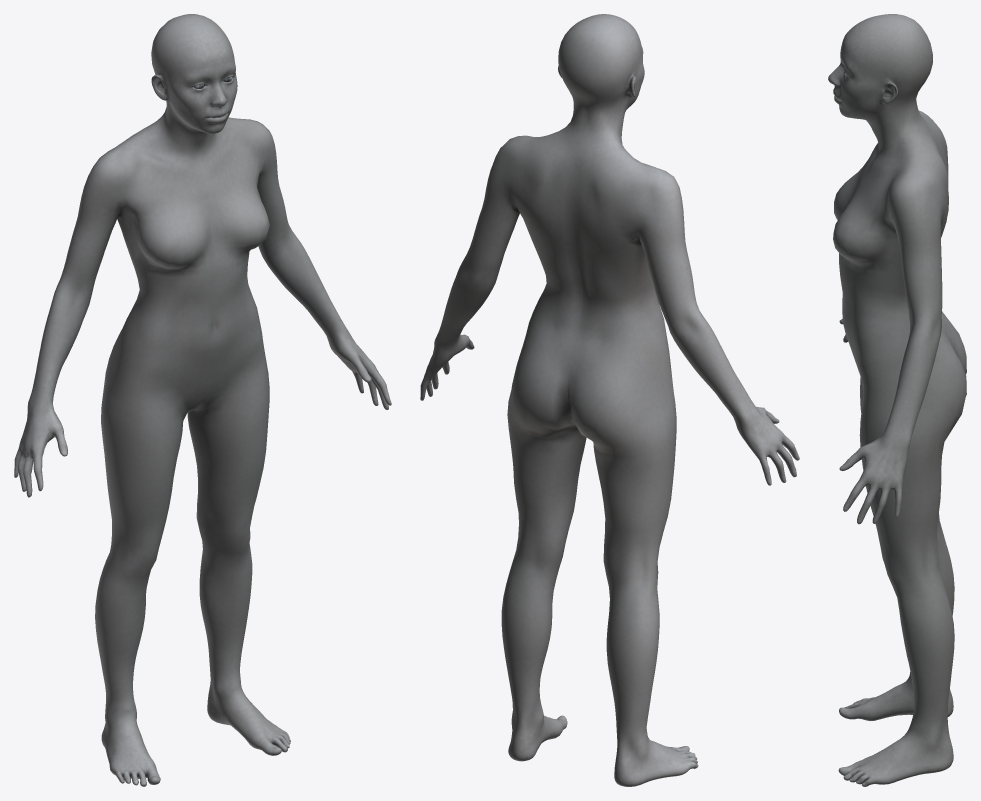
Rendered from female_rest.glb.
3 views of the same model, side by side, from view 1: azimuth 30°, elevation 25°; view 2: azimuth 150°, elevation 25°; view 3: azimuth 270°, elevation 25° (orthographic).
Parts seen in each view (by area): view 1: female_rest; view 2: female_rest; view 3: female_rest.
Boxes of the visible parts, x1=… form: female_rest: x1=14, y1=14, x2=391, y2=786; female_rest: x1=420, y1=14, x2=799, y2=786; female_rest: x1=828, y1=14, x2=966, y2=786.
Size of the model in its own units: 0.8422 by 1.64 by 0.2826.
1 material, 1 textured.
